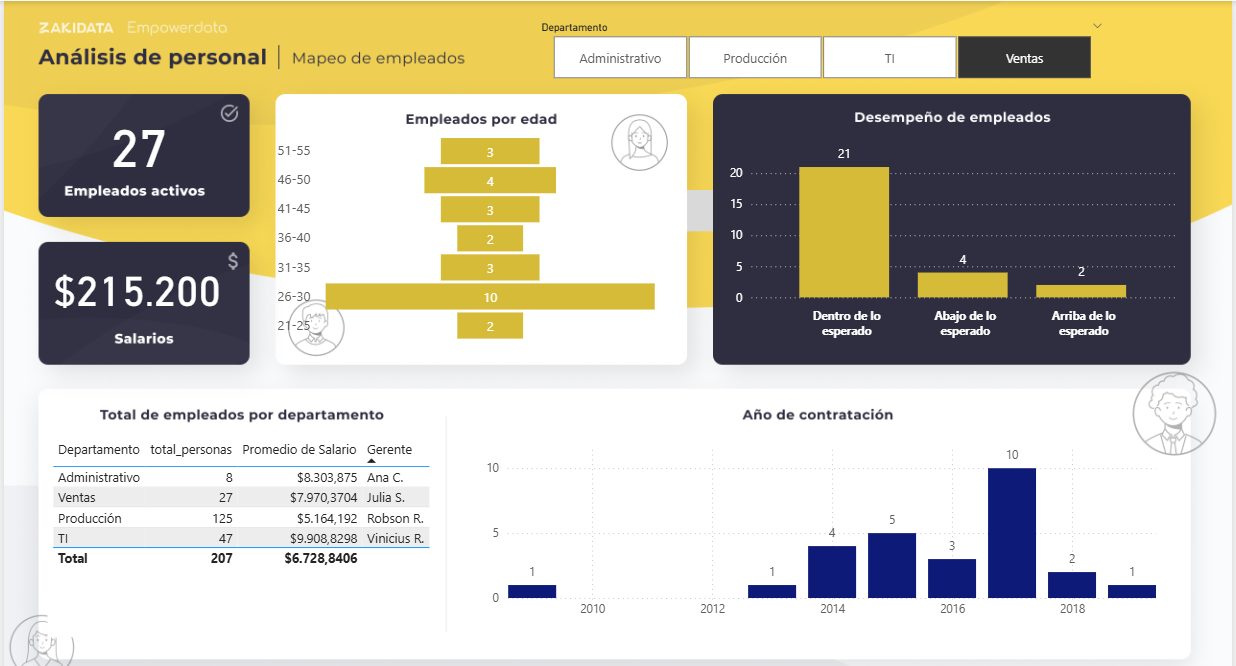

The page's visual inventory and layout, read from the dashboard file:
{"tool":"powerbi","page":{"name":"Página 1","canvas":[1280,720],"ordinal":0},"visuals":[{"type":"card","fields":{"Values":["integrantes.Salario"]},"box":[21.9,221.9,232.9,150],"z":0},{"type":"tableEx","fields":{"Values":["departamentos.Departamento","integrantes.total_personas","integrantes.Salario","departamentos.Gerente"]},"box":[45.3,451.7,406.4,211],"z":1000},{"type":"card","fields":{"Values":["integrantes.total_personas"]},"box":[23.4,71.9,232.9,150],"z":2000},{"type":"columnChart","fields":{"Category":["integrantes.Fecha de contratación.Variación.Jerarquía de fechas.Año"],"Y":["integrantes.total_personas"]},"box":[497,451.7,708,200.1],"z":3000},{"type":"columnChart","fields":{"Category":["integrantes.Registro de desempeño"],"Y":["integrantes.total_personas"]},"box":[744,134.4,484.5,225.1],"z":4000},{"type":"funnel","fields":{"Y":["integrantes.total_personas"],"Category":["integrantes.Rango_edad"]},"box":[279.8,134.4,407.9,225.1],"z":5000},{"type":"slicer","fields":{"Values":["departamentos.Departamento"]},"box":[547,15.6,609.6,71.9],"z":5001}]}

Visuals, with their boxes on the page's 1280x720 design canvas (x1, y1, x2, y2). These are canvas units, not pixel positions in the 1236x666 screenshot, which may show the page scaled, cropped or inside an application window:
card - integrantes.Salario: 22/222/255/372
tableEx - departamentos.Departamento x integrantes.total_personas: 45/452/452/663
card - integrantes.total_personas: 23/72/256/222
columnChart - integrantes.Fecha de contratación.Variación.Jerarquía de fechas.Año x integrantes.total_personas: 497/452/1205/652
columnChart - integrantes.Registro de desempeño x integrantes.total_personas: 744/134/1228/360
funnel - integrantes.total_personas x integrantes.Rango_edad: 280/134/688/360
slicer - departamentos.Departamento: 547/16/1157/88
